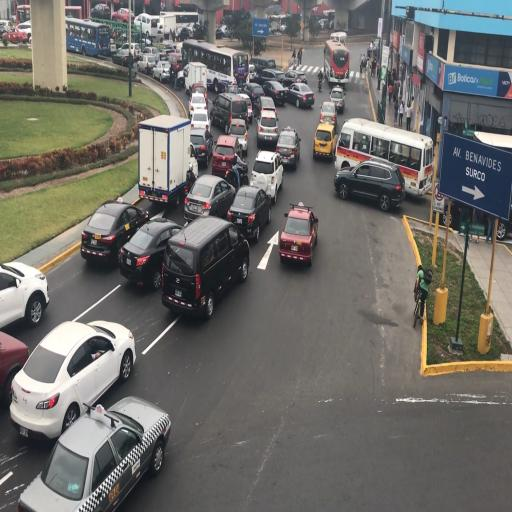auto: (16, 393, 169, 512), (9, 322, 134, 440), (162, 216, 248, 317), (120, 214, 186, 289), (80, 195, 148, 264), (335, 158, 401, 211), (0, 261, 49, 331), (278, 202, 318, 267), (183, 173, 235, 222), (227, 184, 271, 240), (0, 330, 29, 407), (209, 90, 250, 132), (250, 151, 282, 203), (212, 136, 246, 177), (275, 126, 301, 171), (256, 104, 279, 148), (312, 120, 336, 161), (190, 128, 212, 169), (284, 82, 314, 110), (227, 117, 249, 154), (262, 78, 288, 106), (188, 94, 209, 125), (4, 22, 30, 44), (320, 99, 338, 129), (328, 85, 346, 115), (259, 68, 286, 88), (280, 69, 308, 88), (118, 40, 142, 62), (152, 60, 174, 84), (137, 51, 159, 74), (168, 57, 184, 85), (112, 8, 134, 24), (140, 46, 162, 62), (156, 45, 176, 61), (91, 3, 110, 19)
bus: (183, 38, 244, 92), (65, 16, 110, 57), (159, 10, 201, 40), (323, 36, 346, 86), (134, 12, 161, 39), (15, 5, 31, 26), (330, 31, 346, 45)
camion: (136, 114, 192, 211), (185, 61, 208, 98)
moto: (289, 48, 301, 68)
